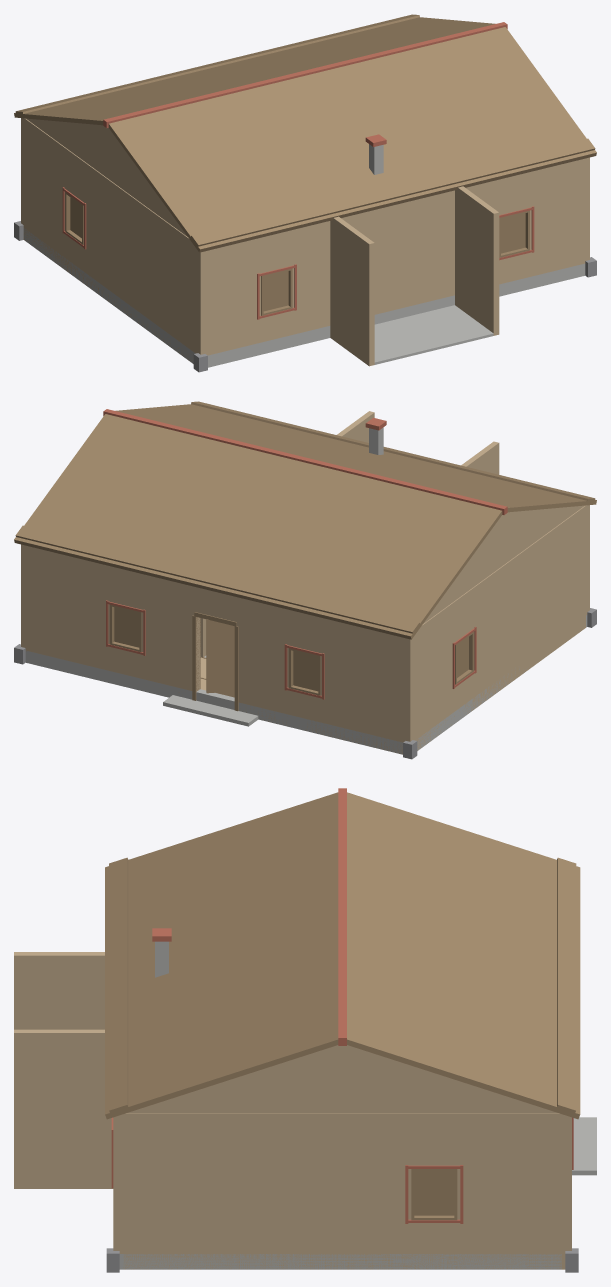
The model's file is 18-Casas_casa_casona.glb.
3 renders of one model, top to bottom at view 1: azimuth 30°, elevation 25°; view 2: azimuth 150°, elevation 25°; view 3: azimuth 270°, elevation 25°, orthographic. The views are drawn at different scales.
Visible parts, largest first — view 1: SM_Zocalo_M_Casa_Acento_Casa_Madera_Oscura_Casa_Paja_Clara_C, SM_Zocalo_M_Casa_Madera_Clara, SM_Zocalo_M_Casa_Piedra_Casa_Piedra_Oscura, SM_Zocalo_M_Casa_Piedra, SM_Zocalo_M_Casa_Madera_Oscura_Casa_Acento, SM_Zocalo_M_Casa_Vidrio, SM_Zocalo_M_Casa_Piedra_Oscura_Casa_Bronce_Casa_Llama_Casa_P; view 2: SM_Zocalo_M_Casa_Acento_Casa_Madera_Oscura_Casa_Paja_Clara_C, SM_Zocalo_M_Casa_Madera_Clara, SM_Zocalo_M_Casa_Piedra_Casa_Piedra_Oscura, SM_Zocalo_M_Casa_Madera_Oscura_Casa_Acento, SM_Zocalo_M_Casa_Madera_Oscura_Casa_Piedra, SM_Zocalo_M_Casa_Vidrio, SM_Zocalo_M_Casa_Madera_Oscura_Casa_Madera_Clara_Casa_Bronce, SM_Zocalo_M_Casa_Piedra_Oscura_Casa_Bronce_Casa_Llama_Casa_P; view 3: SM_Zocalo_M_Casa_Acento_Casa_Madera_Oscura_Casa_Paja_Clara_C, SM_Zocalo_M_Casa_Madera_Clara, SM_Zocalo_M_Casa_Piedra_Casa_Piedra_Oscura, SM_Zocalo_M_Casa_Madera_Oscura_Casa_Acento, SM_Zocalo_M_Casa_Vidrio, SM_Zocalo_M_Casa_Madera_Oscura_Casa_Piedra, SM_Zocalo_M_Casa_Piedra_Oscura_Casa_Bronce_Casa_Llama_Casa_P.
Part boxes in pixels (x1,y1,x2,y2): SM_Zocalo_M_Casa_Acento_Casa_Madera_Oscura_Casa_Paja_Clara_C: (14, 14, 596, 252); SM_Zocalo_M_Casa_Madera_Clara: (21, 118, 589, 366); SM_Zocalo_M_Casa_Piedra_Casa_Piedra_Oscura: (14, 221, 596, 372); SM_Zocalo_M_Casa_Piedra: (374, 305, 493, 364); SM_Zocalo_M_Casa_Madera_Oscura_Casa_Acento: (62, 187, 534, 319); SM_Zocalo_M_Casa_Vidrio: (70, 197, 525, 311); SM_Zocalo_M_Casa_Piedra_Oscura_Casa_Bronce_Casa_Llama_Casa_P: (365, 134, 386, 174); SM_Zocalo_M_Casa_Acento_Casa_Madera_Oscura_Casa_Paja_Clara_C: (14, 401, 596, 639); SM_Zocalo_M_Casa_Madera_Clara: (21, 411, 589, 754); SM_Zocalo_M_Casa_Piedra_Casa_Piedra_Oscura: (14, 608, 596, 759); SM_Zocalo_M_Casa_Madera_Oscura_Casa_Acento: (106, 600, 476, 699); SM_Zocalo_M_Casa_Madera_Oscura_Casa_Piedra: (163, 612, 258, 726); SM_Zocalo_M_Casa_Vidrio: (114, 607, 468, 691); SM_Zocalo_M_Casa_Madera_Oscura_Casa_Madera_Clara_Casa_Bronce: (206, 619, 234, 697); SM_Zocalo_M_Casa_Piedra_Oscura_Casa_Bronce_Casa_Llama_Casa_P: (365, 417, 386, 454); SM_Zocalo_M_Casa_Acento_Casa_Madera_Oscura_Casa_Paja_Clara_C: (105, 788, 580, 1119); SM_Zocalo_M_Casa_Madera_Clara: (14, 952, 571, 1269); SM_Zocalo_M_Casa_Piedra_Casa_Piedra_Oscura: (106, 1248, 578, 1272); SM_Zocalo_M_Casa_Madera_Oscura_Casa_Acento: (111, 1117, 573, 1223); SM_Zocalo_M_Casa_Vidrio: (414, 1171, 454, 1215); SM_Zocalo_M_Casa_Madera_Oscura_Casa_Piedra: (572, 1117, 596, 1175); SM_Zocalo_M_Casa_Piedra_Oscura_Casa_Bronce_Casa_Llama_Casa_P: (152, 928, 171, 977).
Bounding box in the file's own units: 10.3 × 4.53 × 10.17.
